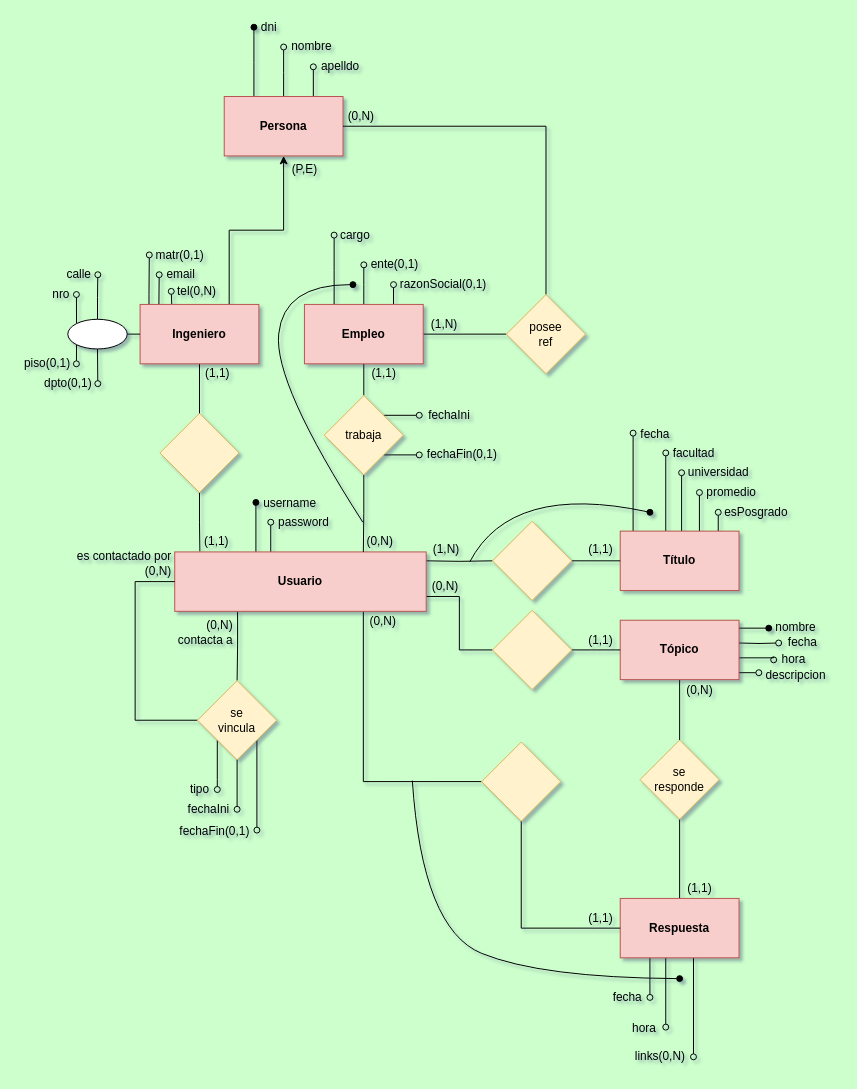
Image size: 857x1089. Some labels were removed from this diagram. Each missing label, with the box of its shape:
alcanza: (492, 520, 572, 600)
autentica: (159, 412, 239, 493)
crea: (492, 609, 572, 690)
dirección: (67, 318, 127, 349)
formula: (481, 741, 561, 821)
